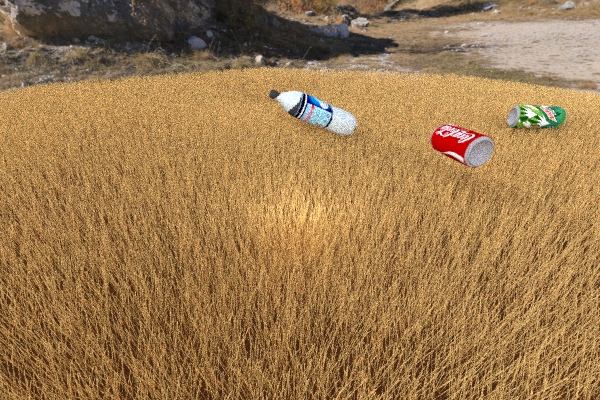bottle: (269, 89, 357, 136)
can: (430, 124, 494, 167), (507, 105, 567, 129)
